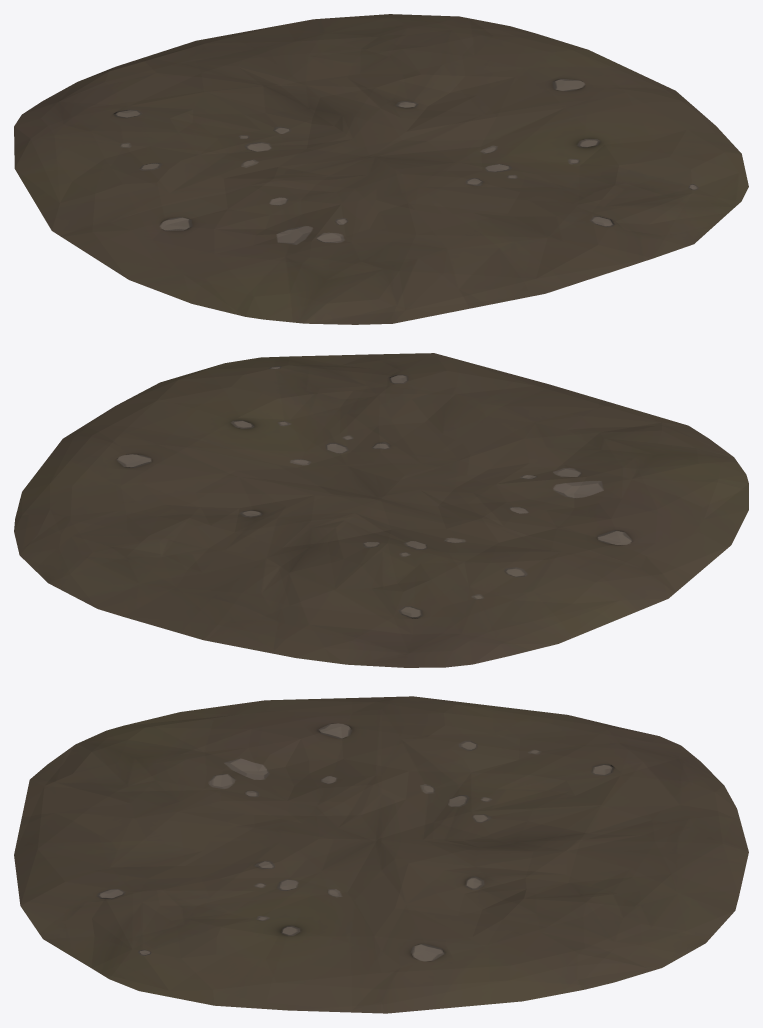
File: synty-terrain-ground-mound-large-01.gltf
3 renders of one model, top to bottom at view 1: azimuth 30°, elevation 25°; view 2: azimuth 150°, elevation 25°; view 3: azimuth 270°, elevation 25°, orthographic. The views are drawn at different scales.
Visible parts, largest first — view 1: SM_Terrain_Ground_Mound_Large_01; view 2: SM_Terrain_Ground_Mound_Large_01; view 3: SM_Terrain_Ground_Mound_Large_01.
Boxes of the visible parts, bbox=[...] form: SM_Terrain_Ground_Mound_Large_01: bbox=[14, 14, 748, 324]; SM_Terrain_Ground_Mound_Large_01: bbox=[14, 353, 748, 667]; SM_Terrain_Ground_Mound_Large_01: bbox=[14, 696, 748, 1013].
Bounding box in the file's own units: 12.74 × 0.3388 × 12.47.
Materials: 1 (1 with a texture image).
